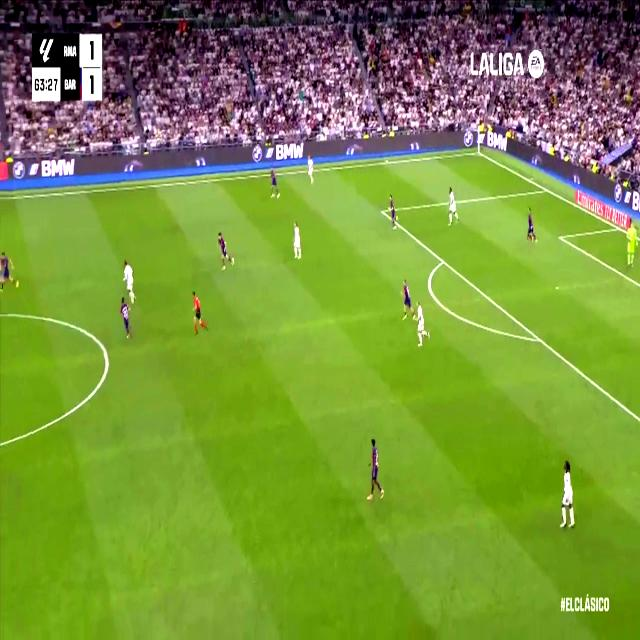bigarea_top_inner: (378, 202, 386, 219)
bigarea_top_outter: (542, 182, 549, 196)
bottom_arc_area_intersection: (534, 328, 544, 348)
corner: (474, 147, 482, 157)
smallarea_top_inner: (557, 231, 563, 244)
top_arc_area_intersection: (439, 252, 447, 268)
